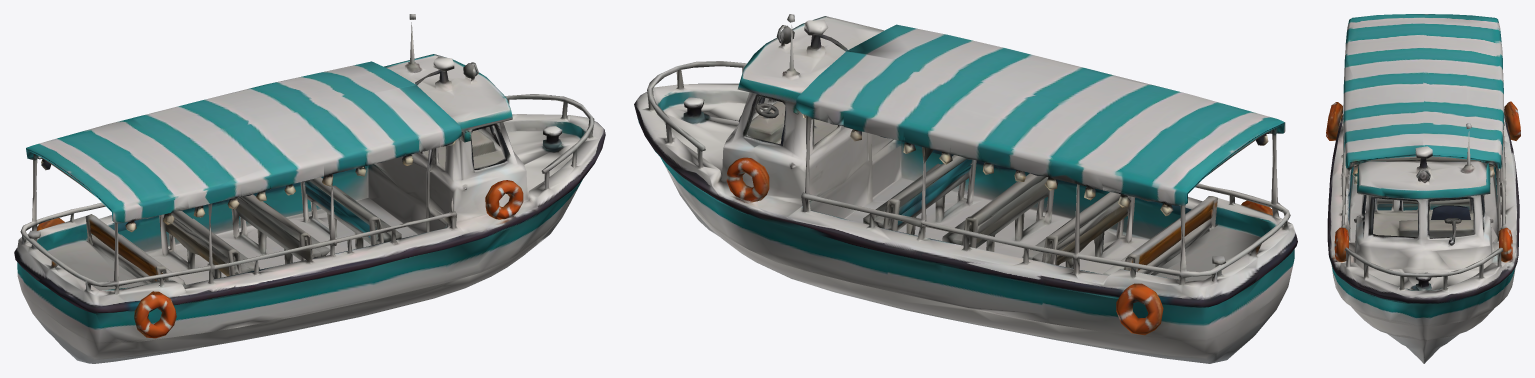
Rendered from boat-tour.glb.
The picture shows the model from 3 angles, left to right: view 1: azimuth 30°, elevation 25°; view 2: azimuth 150°, elevation 25°; view 3: azimuth 270°, elevation 25°; orthographic projection. The views are drawn at different scales.
Visible parts, largest first — view 1: tripo_node_cc639d38-7e0d-4999-9b1a-6961acbac68b; view 2: tripo_node_cc639d38-7e0d-4999-9b1a-6961acbac68b; view 3: tripo_node_cc639d38-7e0d-4999-9b1a-6961acbac68b.
Boxes of the visible parts, x1=… form: tripo_node_cc639d38-7e0d-4999-9b1a-6961acbac68b: x1=14, y1=14, x2=605, y2=363; tripo_node_cc639d38-7e0d-4999-9b1a-6961acbac68b: x1=634, y1=14, x2=1297, y2=363; tripo_node_cc639d38-7e0d-4999-9b1a-6961acbac68b: x1=1326, y1=14, x2=1520, y2=363.
Size of the model in its own units: 0.9994 by 0.421 by 0.3599.
Materials: 1 (1 with a texture image).
